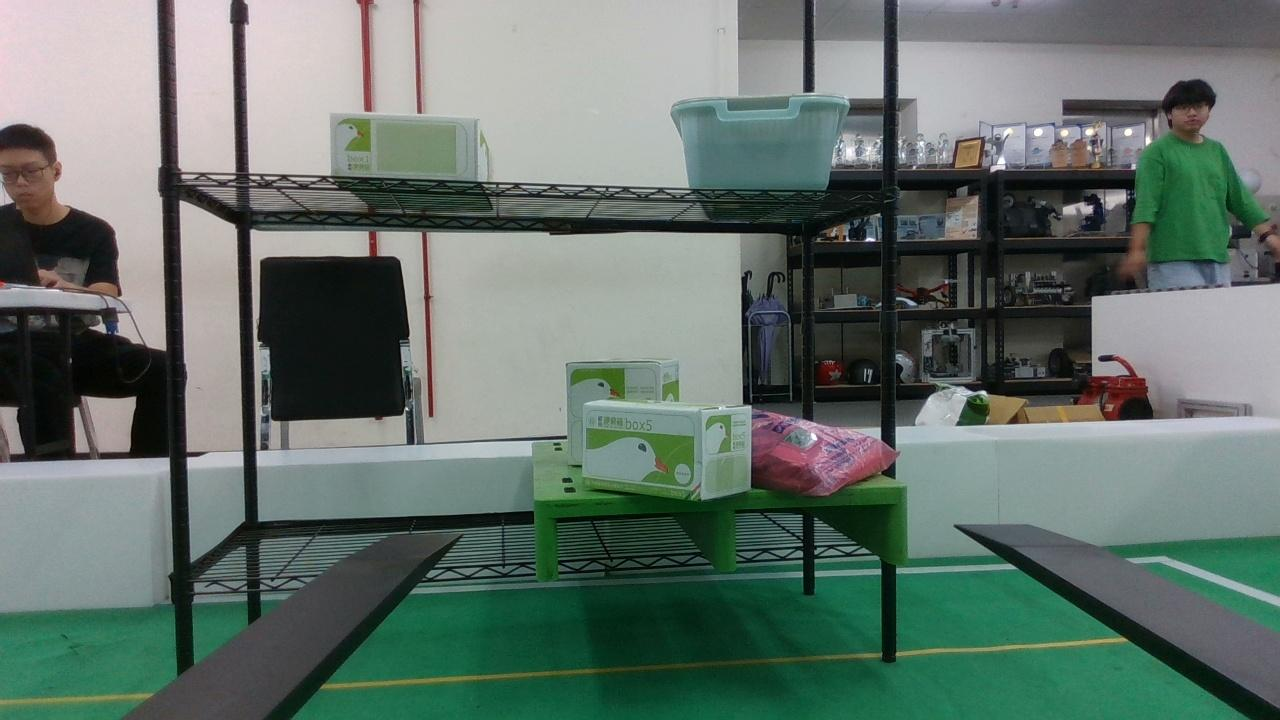Pallet: (534, 487, 909, 578)
